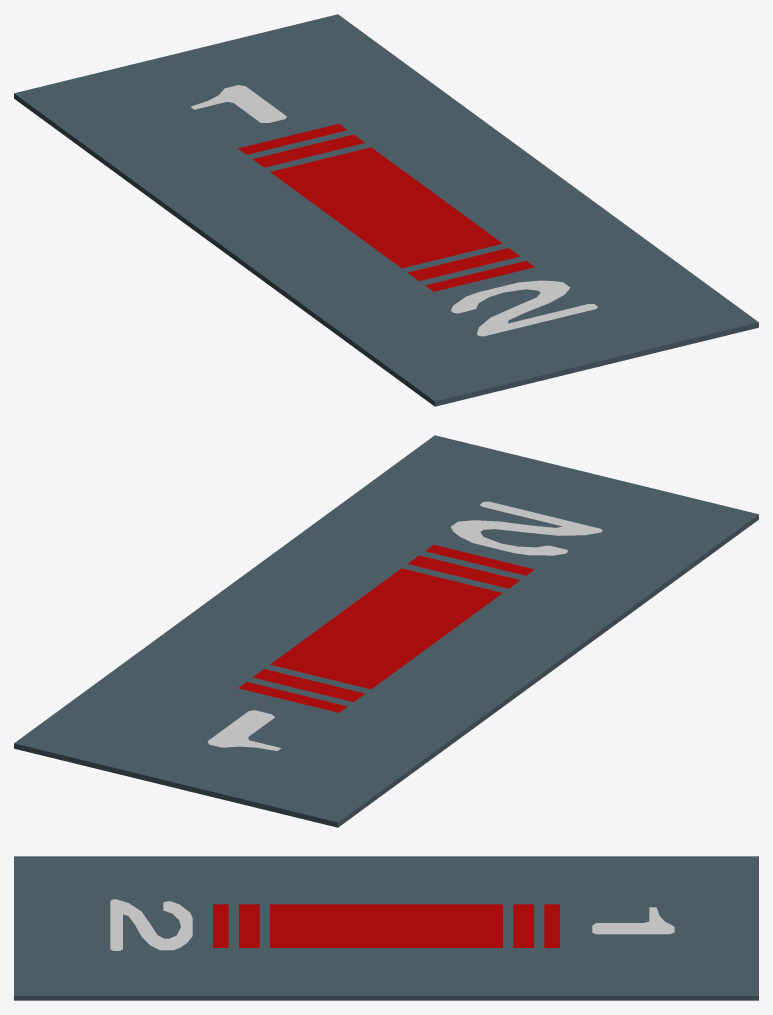
3 views of the same model, one above another, from view 1: azimuth 30°, elevation 25°; view 2: azimuth 150°, elevation 25°; view 3: azimuth 270°, elevation 25° (orthographic). The views are drawn at different scales.
Parts seen in each view (by area): view 1: world; view 2: world; view 3: world.
Boxes of the visible parts, x1,y1,x2,y2 form: world: (14,14,758,406); world: (14,435,758,827); world: (14,856,758,1000).
Size of the model in its own units: 0.0064 by 0.0001 by 0.0144.
